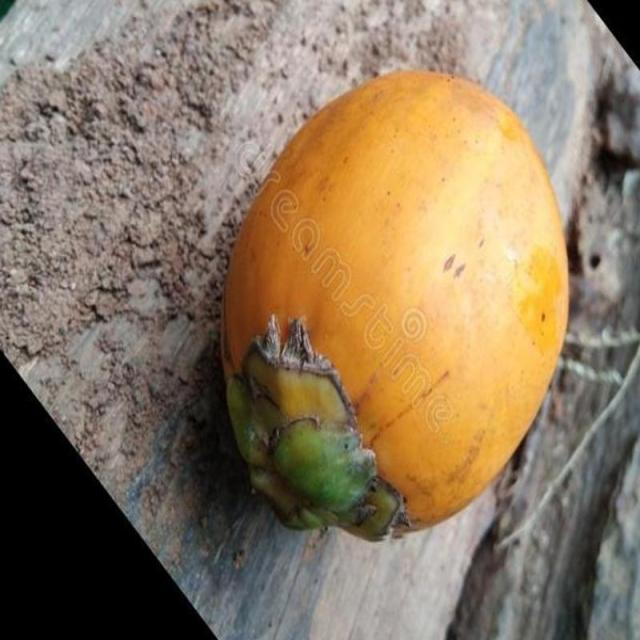good: (216, 68, 571, 548)
